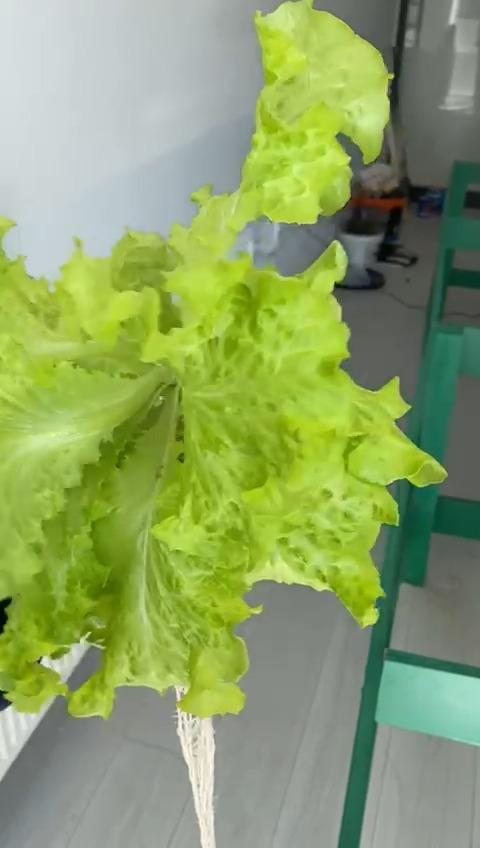Healthy: (0, 2, 449, 729)
